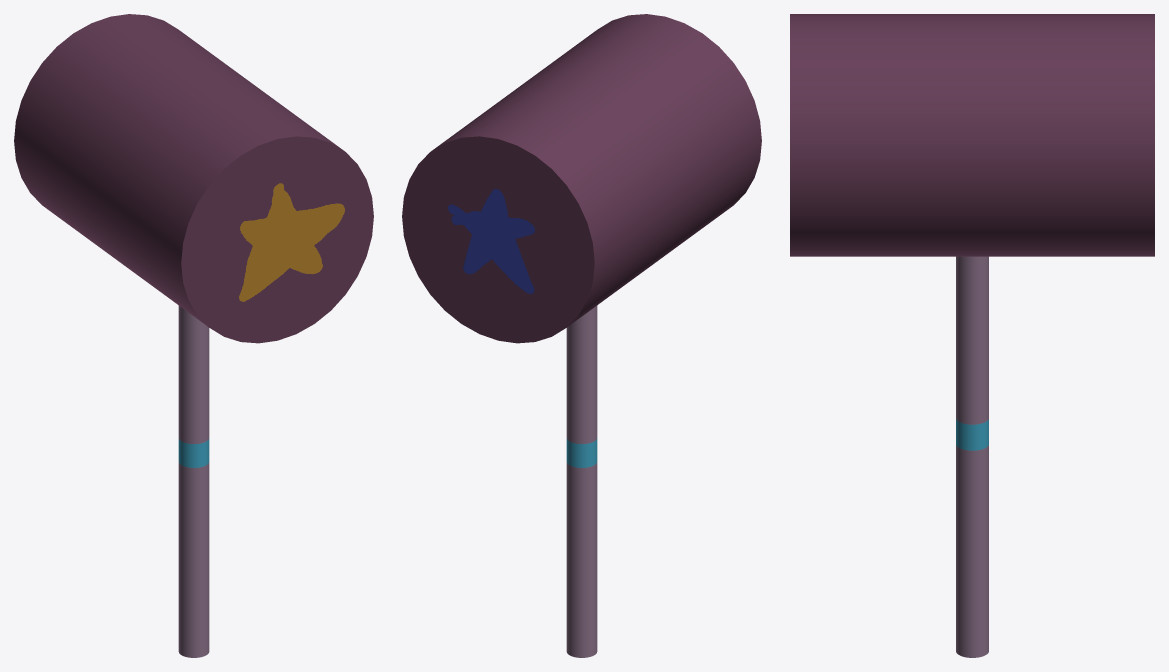
File: Hammer01.obj
The picture shows the model from 3 angles, left to right: view 1: azimuth 30°, elevation 25°; view 2: azimuth 150°, elevation 25°; view 3: azimuth 270°, elevation 25°; orthographic projection. The views are drawn at different scales.
Visible parts, largest first — view 1: hammer; view 2: hammer; view 3: hammer.
Boxes of the visible parts, x1,y1,x2,y2 form: hammer: [14, 14, 373, 657]; hammer: [402, 14, 761, 657]; hammer: [790, 14, 1154, 657].
Size of the model in its own units: 3.42 by 9.74 by 5.14.
1 material, 1 textured.
